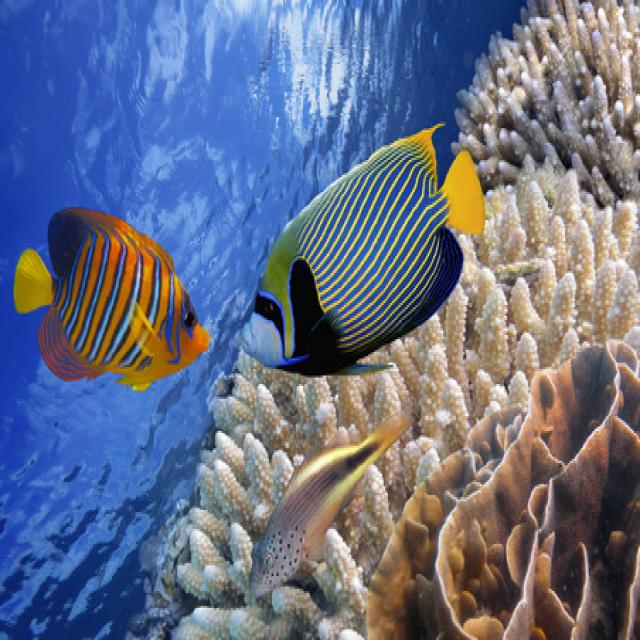AngelFish: (244, 121, 484, 378), (13, 208, 208, 390)
